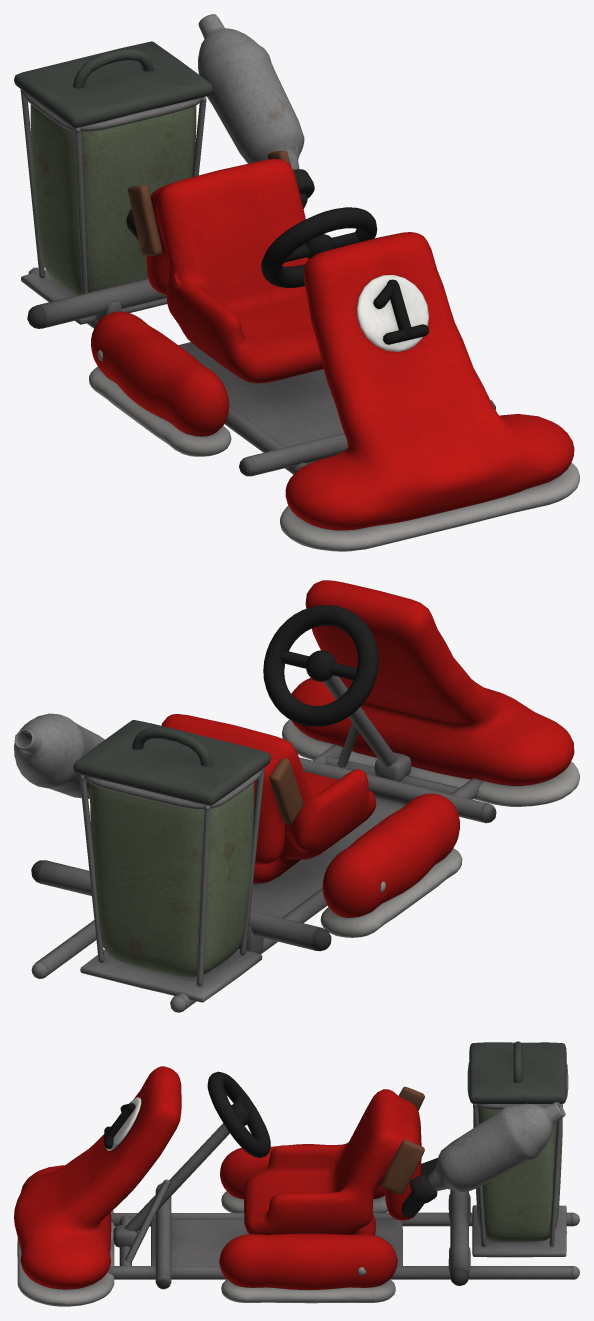
3 renders of one model, top to bottom at view 1: azimuth 30°, elevation 25°; view 2: azimuth 150°, elevation 25°; view 3: azimuth 270°, elevation 25°, orthographic. The views are drawn at different scales.
Visible parts, largest first — view 1: body, steering_wheel; view 2: body, steering_wheel; view 3: body, steering_wheel.
Part boxes in pixels (x1,y1,x2,y2): body: (14,14,579,551); steering_wheel: (261,207,377,287); body: (14,580,579,1012); steering_wheel: (263,605,378,726); body: (14,1041,579,1306); steering_wheel: (207,1071,270,1157).
Size of the model in its own units: 0.8599 by 0.6941 by 1.8.
Materials: 1 (1 with a texture image).
